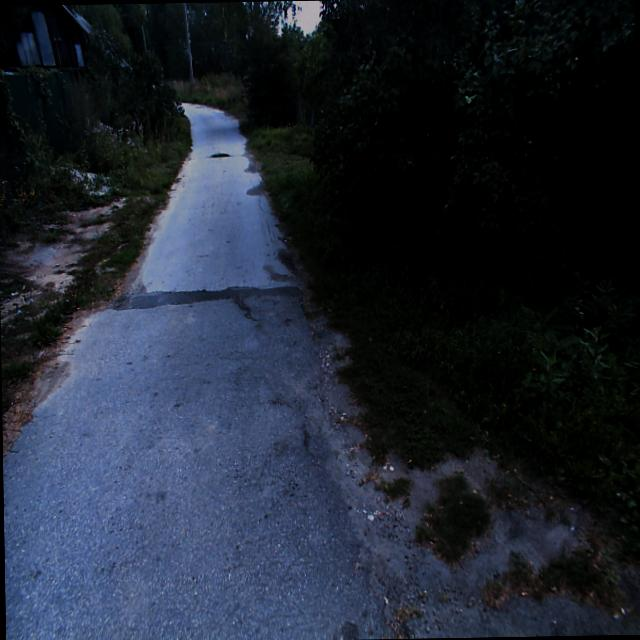road: (2, 101, 394, 640)
